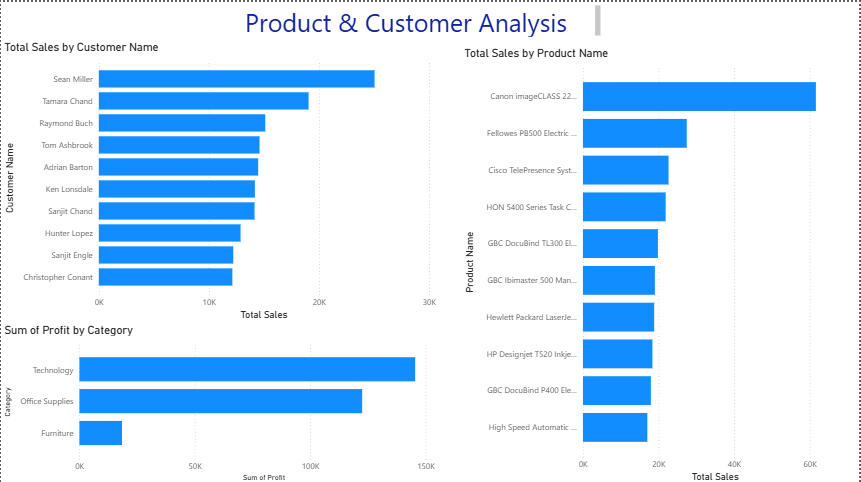

Layout of this report page (visuals, bound fields, positions):
{"tool":"powerbi","page":{"name":"Product & Customer Analysis","canvas":[1280,720],"ordinal":1},"visuals":[{"type":"clusteredBarChart","fields":{"Category":["Sample - Superstore data set.Product Name"],"Y":["Sample - Superstore data set.Total Sales"]},"box":[687.3,65.1,592.1,655.6],"z":0},{"type":"clusteredBarChart","fields":{"Category":["Sample - Superstore data set.Customer Name"],"Y":["Sample - Superstore data set.Total Sales"]},"box":[0,57.1,654,422.2],"z":1000},{"type":"clusteredBarChart","fields":{"Category":["Sample - Superstore data set.Category"],"Y":["Sum(Sample - Superstore data set.Profit)"]},"box":[0,479.4,687.3,241.3],"z":2000},{"type":"textbox","box":[360.3,0,539.7,57.1],"z":3000}]}

Visuals, with their boxes in screenshot pixels (x1, y1, x2, y2), scaled from the page's 1280x720 canvas onto the 861x482 screenshot:
clusteredBarChart - Sample - Superstore data set.Product Name x Sample - Superstore data set.Total Sales: bbox=[462, 44, 860, 481]
clusteredBarChart - Sample - Superstore data set.Customer Name x Sample - Superstore data set.Total Sales: bbox=[0, 38, 440, 321]
clusteredBarChart - Sample - Superstore data set.Category x Sum(Sample - Superstore data set.Profit): bbox=[0, 321, 462, 481]
textbox: bbox=[242, 0, 605, 38]
